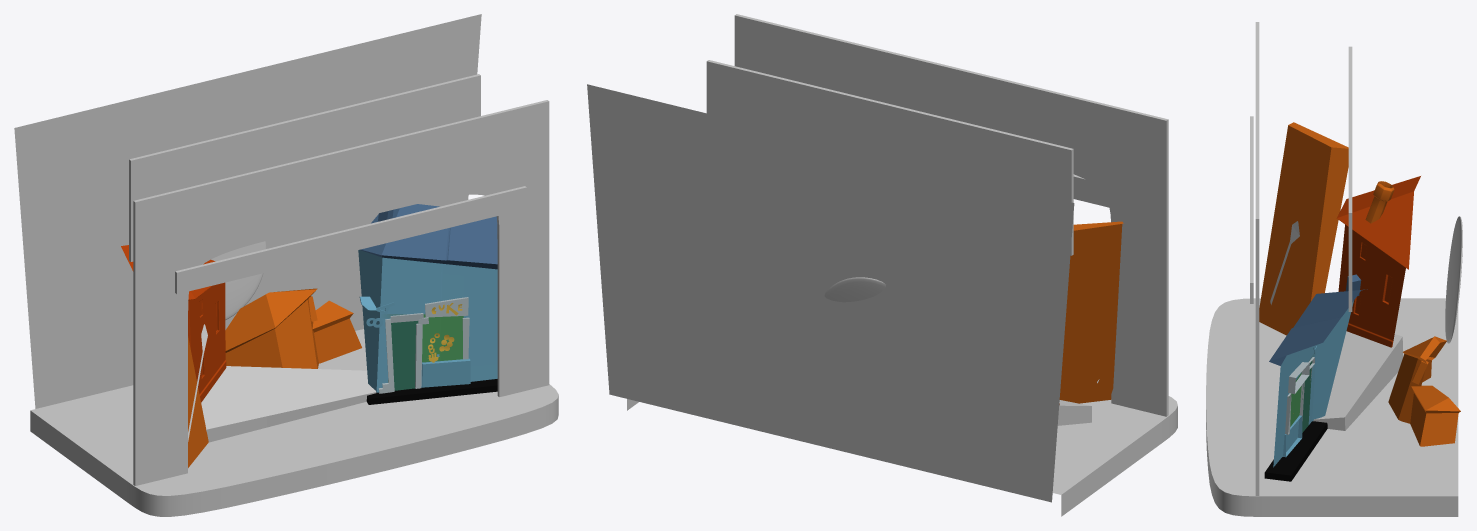
File: nishfey perez.fbx
3 renders of one model, left to right at view 1: azimuth 30°, elevation 25°; view 2: azimuth 150°, elevation 25°; view 3: azimuth 270°, elevation 25°, orthographic. The views are drawn at different scales.
Visible parts, largest first — view 1: Background, Plane.016, Plane, Plane.001, Plane.015, Plane.003, Plane.017, Plane.009, Plane.006, Plane.010, Sphere, Plane.007; view 2: Background, Plane.016, Plane.015, Plane.007, Plane, Sphere, Plane.003, Plane.017; view 3: Plane, Plane.007, Plane.001, Plane.006, Plane.003, Plane.010, Plane.016, Plane.009, Sphere, Plane.015, Plane.017, Cube.004 (+1 smaller).
Boxes of the visible parts, <box> form: Background: <box>14,14,481,408</box>; Plane.016: <box>133,100,549,485</box>; Plane: <box>30,329,558,516</box>; Plane.001: <box>358,204,497,404</box>; Plane.015: <box>129,74,480,261</box>; Plane.003: <box>201,366,376,442</box>; Plane.017: <box>175,186,526,294</box>; Plane.009: <box>225,288,318,368</box>; Plane.006: <box>121,245,226,402</box>; Plane.010: <box>312,300,361,363</box>; Sphere: <box>211,241,266,319</box>; Plane.007: <box>188,336,208,467</box>; Background: <box>587,84,1074,502</box>; Plane.016: <box>734,14,1168,416</box>; Plane.015: <box>706,60,1073,255</box>; Plane.007: <box>1059,221,1123,403</box>; Plane: <box>627,396,1177,516</box>; Sphere: <box>824,277,885,302</box>; Plane.003: <box>1057,400,1091,425</box>; Plane.017: <box>1073,174,1109,207</box>; Plane: <box>1206,298,1458,516</box>; Plane.007: <box>1259,122,1348,335</box>; Plane.001: <box>1264,274,1367,481</box>; Plane.006: <box>1336,176,1420,347</box>; Plane.003: <box>1313,331,1402,430</box>; Plane.010: <box>1410,385,1460,446</box>; Plane.016: <box>1255,22,1259,495</box>; Plane.009: <box>1388,336,1446,423</box>; Sphere: <box>1445,216,1462,343</box>; Plane.015: <box>1348,46,1352,311</box>; Plane.017: <box>1250,116,1253,303</box>; Cube.004: <box>1365,181,1394,223</box>.
Size of the model in its own units: 1263 by 789 by 617.
